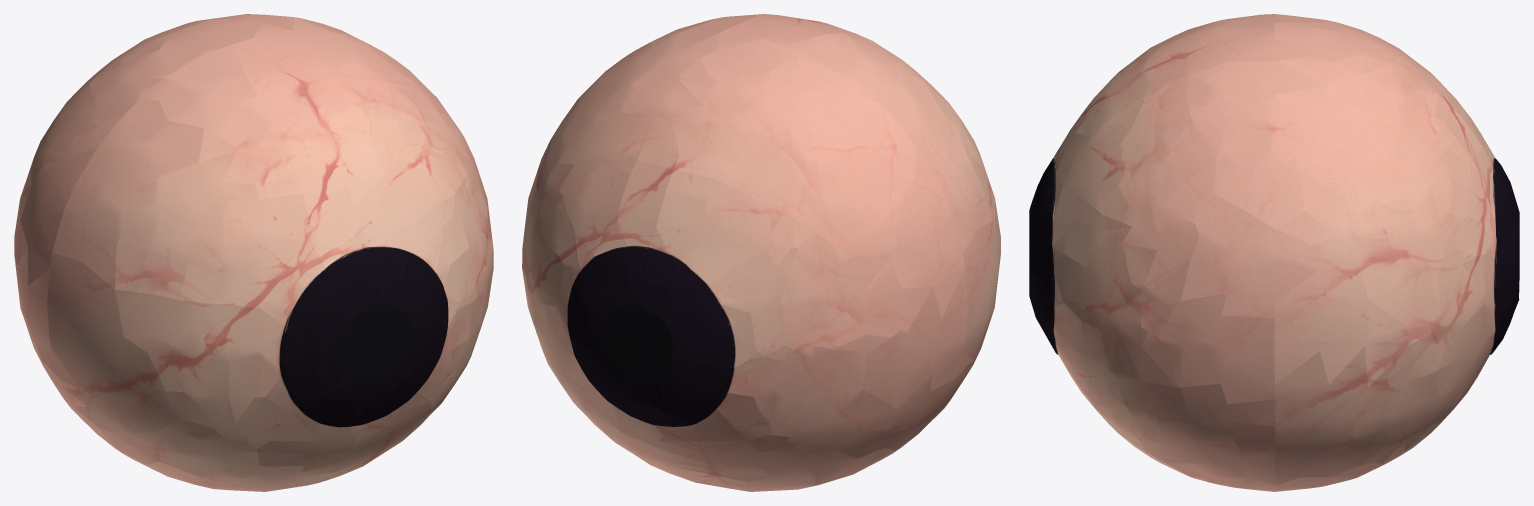
File: dream-eyeball.glb
3 renders of one model, left to right at view 1: azimuth 30°, elevation 25°; view 2: azimuth 150°, elevation 25°; view 3: azimuth 270°, elevation 25°, orthographic.
Visible parts, largest first — view 1: output_unwrapped; view 2: output_unwrapped; view 3: output_unwrapped.
Part boxes in pixels (x1=…): output_unwrapped: x1=14, y1=14, x2=493, y2=491; output_unwrapped: x1=522, y1=14, x2=1000, y2=491; output_unwrapped: x1=1029, y1=14, x2=1519, y2=491.
Bounding box in the file's own units: 1.85 × 1.84 × 1.9.
1 material, 1 textured.
